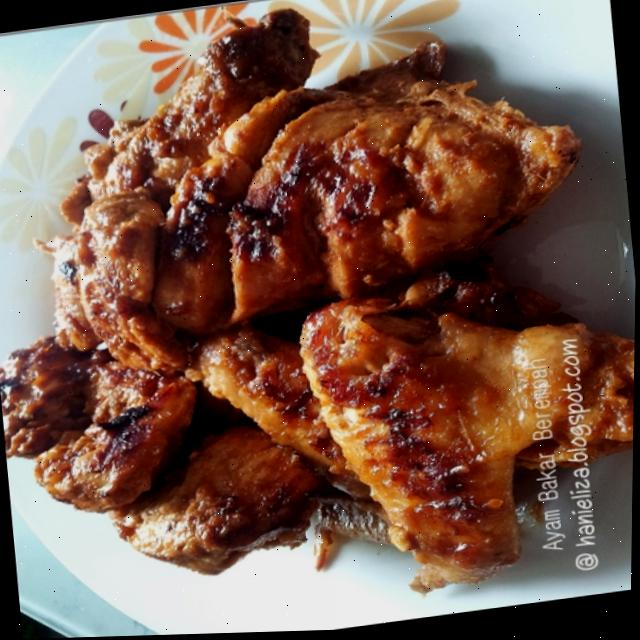鸡肉料理 含炸鸡: (0, 20, 640, 628)
